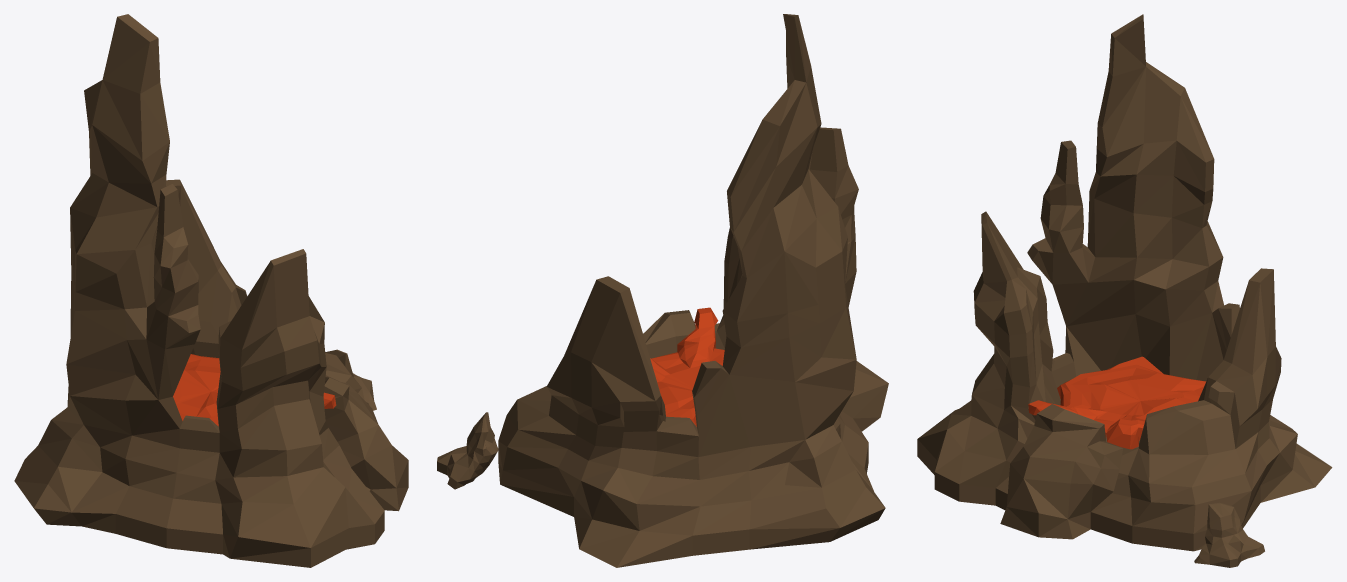
The model's file is magma stone-high 1.FBX.
3 views of the same model, side by side, from view 1: azimuth 30°, elevation 25°; view 2: azimuth 150°, elevation 25°; view 3: azimuth 270°, elevation 25° (orthographic). The views are drawn at different scales.
Visible parts, largest first — view 1: polySurface3; view 2: polySurface3; view 3: polySurface3.
Boxes of the visible parts, x1,y1,x2,y2 form: polySurface3: (14, 14, 408, 567); polySurface3: (437, 14, 888, 567); polySurface3: (917, 14, 1332, 567).
Size of the model in its own units: 8.77 by 10.41 by 9.2.
